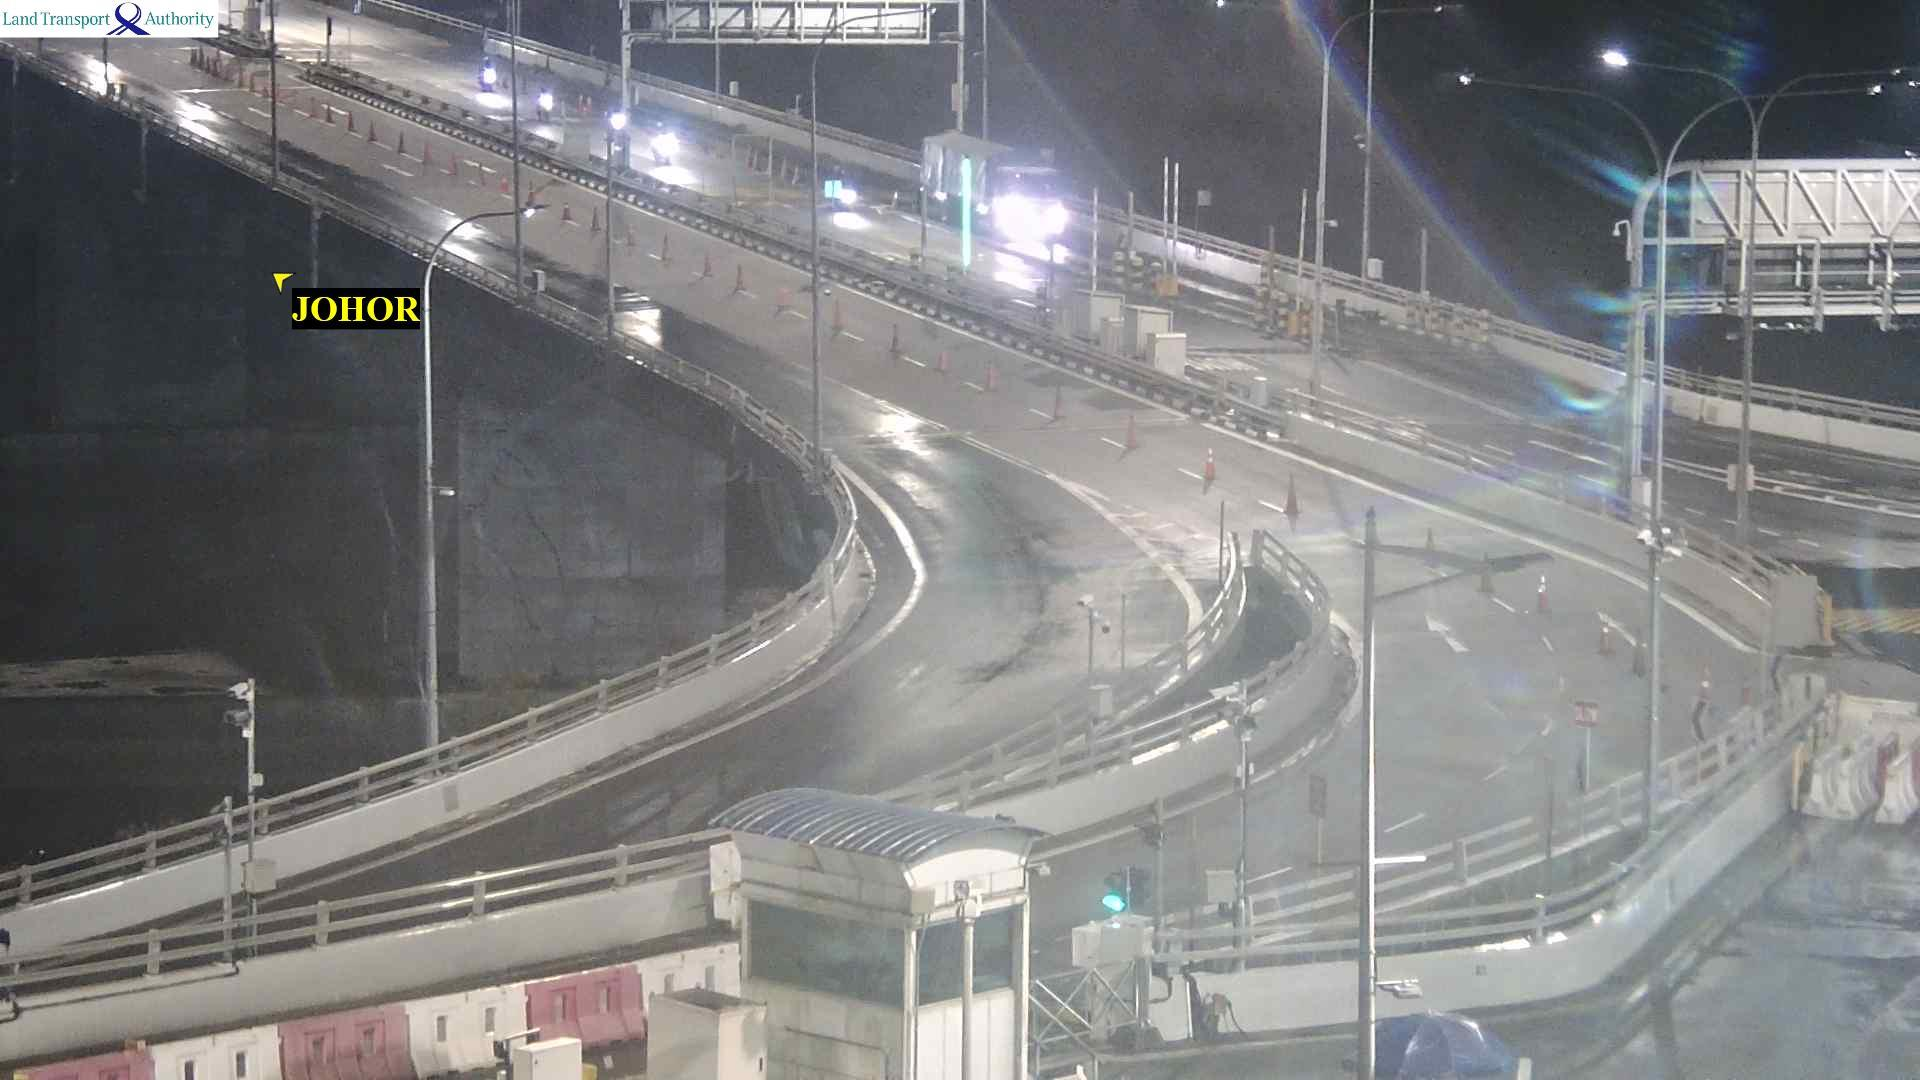vehicle-secondlink-singapore: (860, 130, 1081, 233), (818, 170, 864, 219), (654, 123, 672, 166), (480, 57, 496, 92), (534, 85, 549, 121), (604, 110, 618, 133)
